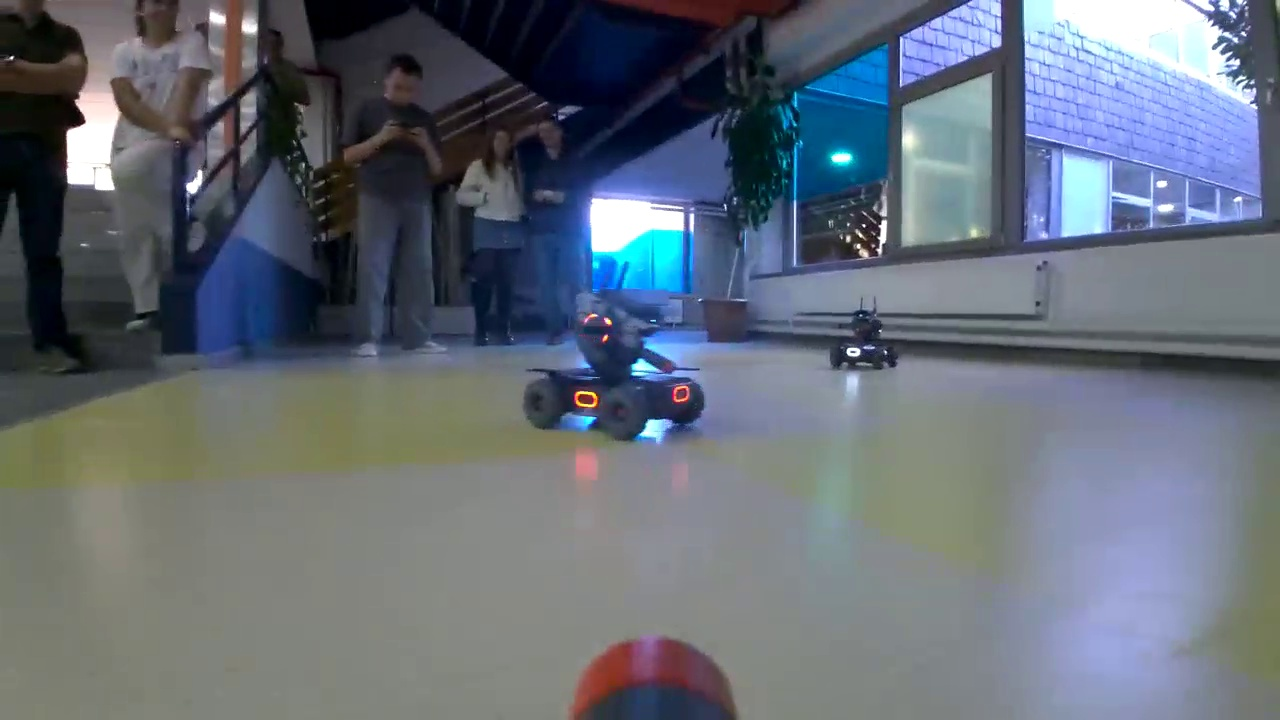robot: (526, 298, 706, 436), (828, 311, 906, 372)
